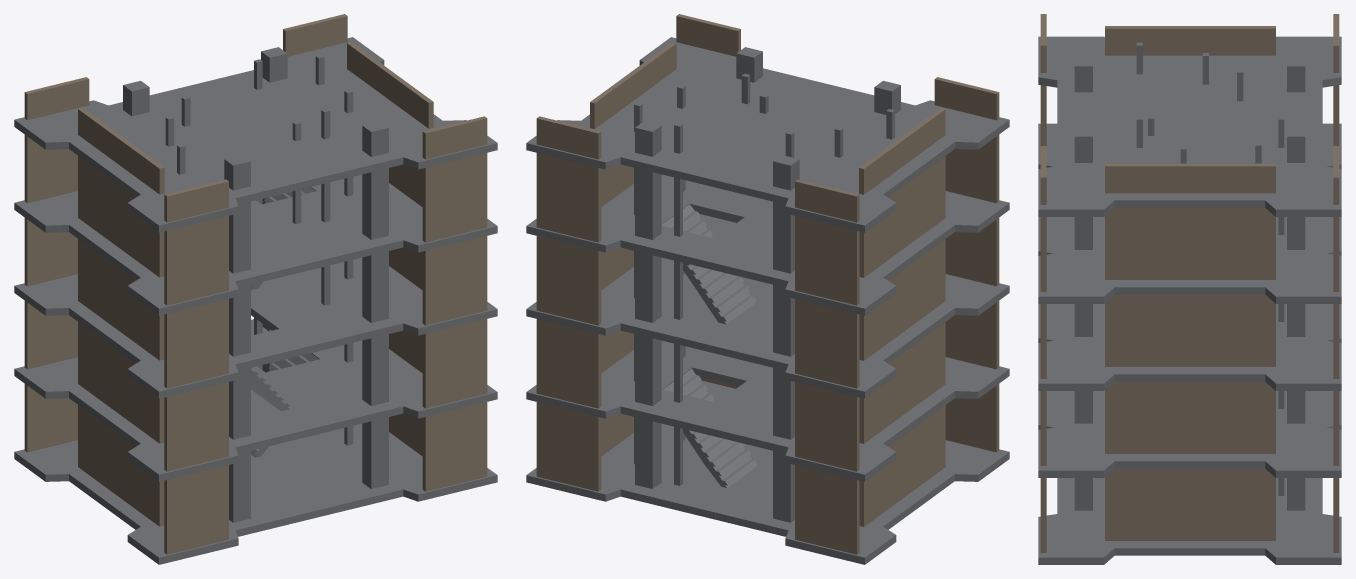
File: Construction_3.fbx
The picture shows the model from 3 angles, left to right: view 1: azimuth 30°, elevation 25°; view 2: azimuth 150°, elevation 25°; view 3: azimuth 270°, elevation 25°; orthographic projection. The views are drawn at different scales.
Visible parts, largest first — view 1: Construction_3; view 2: Construction_3; view 3: Construction_3.
Part boxes in pixels (x1,y1,x2,y2): Construction_3: (14, 14, 497, 564); Construction_3: (526, 14, 1009, 564); Construction_3: (1038, 14, 1341, 564).
Bounding box in the file's own units: 904 × 935 × 670.
